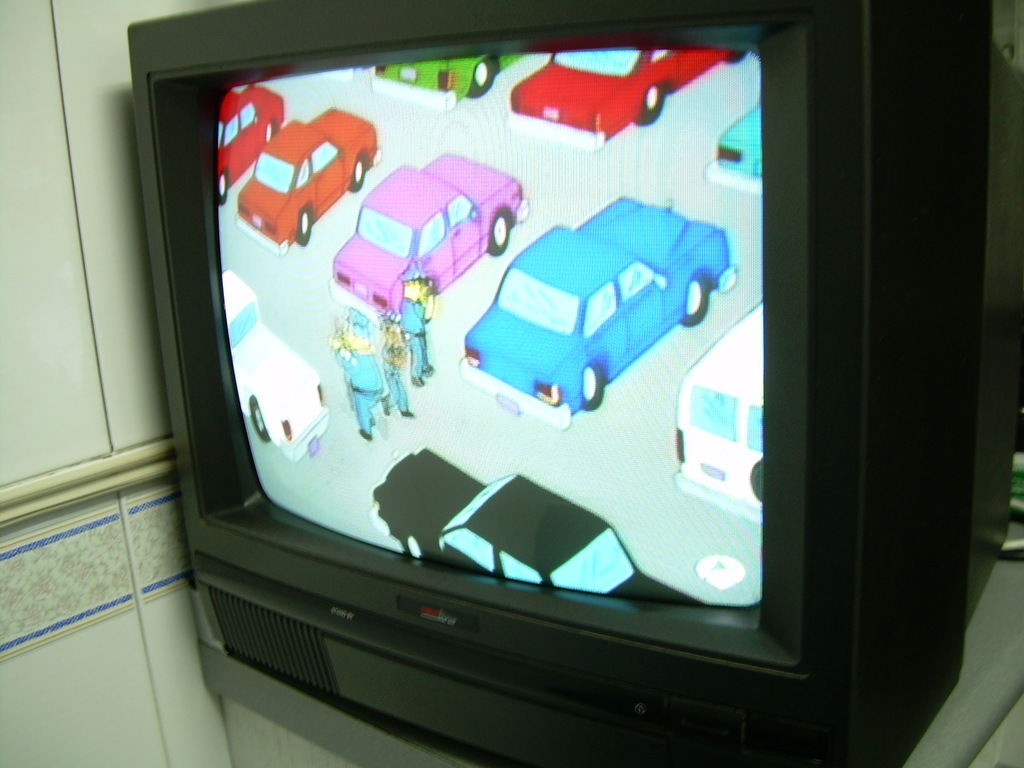Car: (223, 46, 766, 591)
